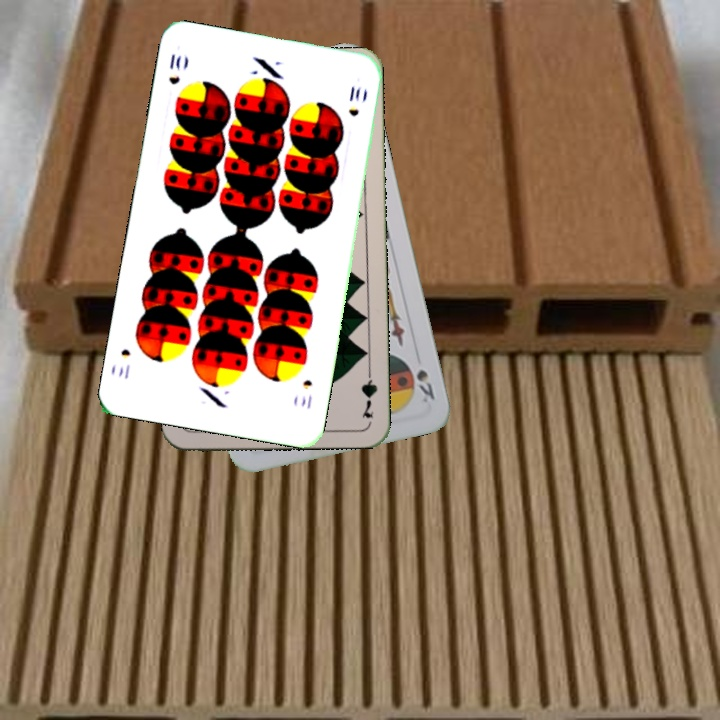G7: (357, 362, 380, 421)
S10: (164, 49, 184, 87), (297, 375, 315, 411)
SK: (412, 365, 438, 406)
